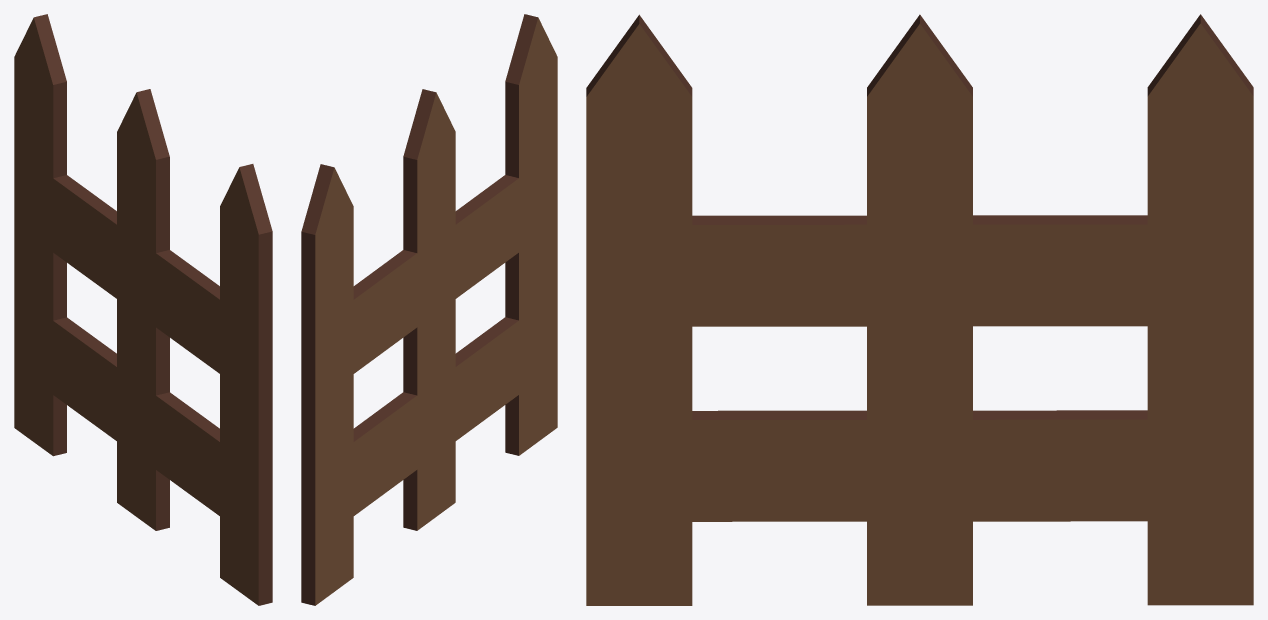
File: cerco.fbx
3 renders of one model, left to right at view 1: azimuth 30°, elevation 25°; view 2: azimuth 150°, elevation 25°; view 3: azimuth 270°, elevation 25°, orthographic. The views are drawn at different scales.
Parts seen in each view (by area): view 1: Cube; view 2: Cube; view 3: Cube.
Boxes of the visible parts, x1,y1,x2,y2 form: Cube: (14,14,272,605); Cube: (301,14,557,605); Cube: (586,14,1253,605).
Bounding box in the file's own units: 6.62 × 181 × 188.
